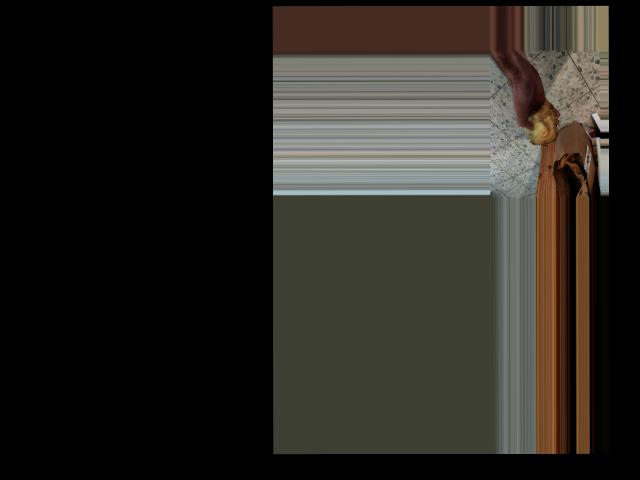onion: (522, 99, 557, 147)
